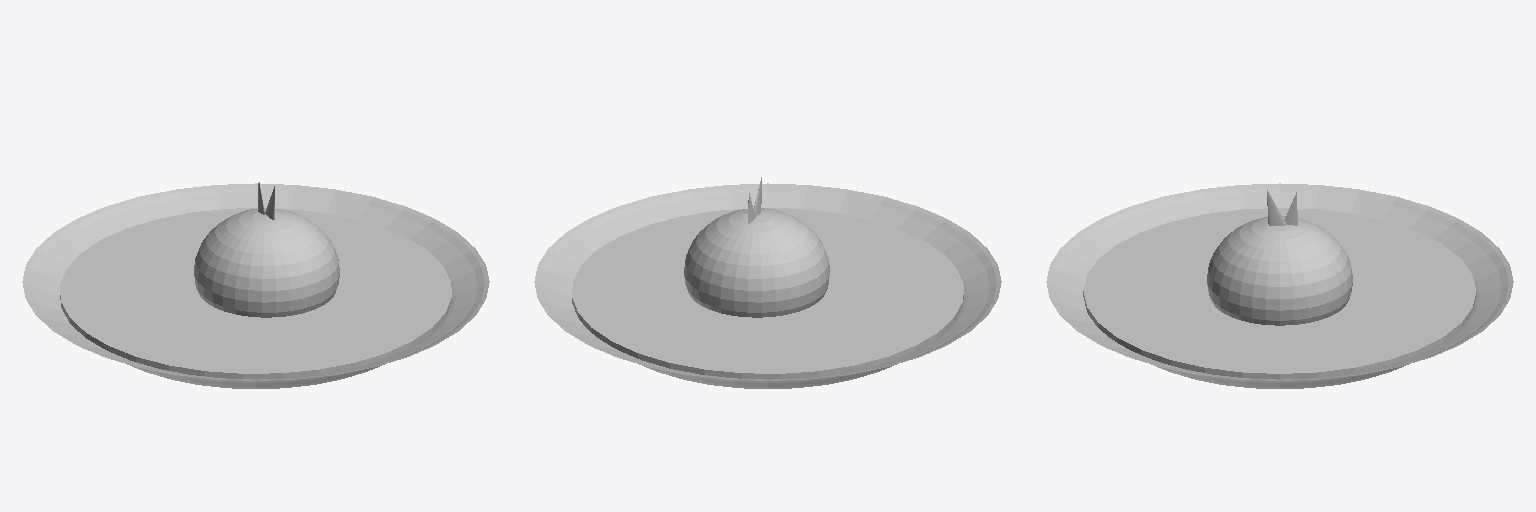
The model's file is ketan kinca.obj.
The picture shows the model from 3 angles: view 1: azimuth 30°, elevation 25°; view 2: azimuth 150°, elevation 25°; view 3: azimuth 270°, elevation 25°; orthographic projection.
Parts seen in each view (by area): view 1: Cylinder.001, Cylinder, Sphere; view 2: Cylinder.001, Cylinder, Sphere; view 3: Cylinder.001, Cylinder, Sphere.
Part boxes in pixels (left/top/right/bottom): Cylinder.001: left=60, top=208, right=451, bottom=379; Cylinder: left=22, top=183, right=489, bottom=388; Sphere: left=194, top=208, right=339, bottom=317; Cylinder.001: left=572, top=208, right=963, bottom=379; Cylinder: left=534, top=183, right=1001, bottom=388; Sphere: left=684, top=208, right=829, bottom=317; Cylinder.001: left=1083, top=208, right=1476, bottom=379; Cylinder: left=1046, top=183, right=1513, bottom=388; Sphere: left=1207, top=216, right=1352, bottom=325.
Size of the model in its own units: 2.31 by 0.8071 by 2.31.